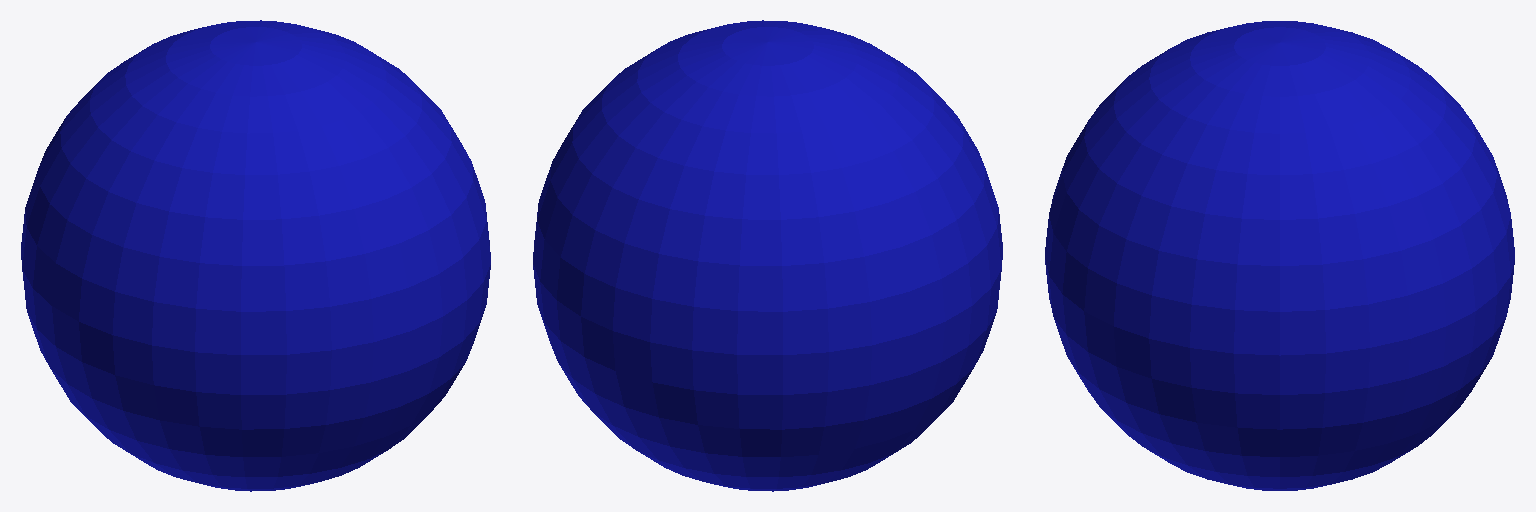
The robot description file, URDF, robot "GP7":
<?xml version="1.0"?>
<robot name="GP7">
    <!-- link list -->
    <link name="base_link">
        <visual>
            <geometry>
                <mesh filename="[local-path]/Documents/workspace/drake_cfs_lib/script/environment_description/gp7/meshes/visual/gp7_base_link.obj"/>
            </geometry>
            <material name="Endeffector_material">
                <color rgba="0.129411765 0.149019608 0.749019608 1.0" />
            </material>
        </visual>
        <collision>
            <geometry>
                <mesh filename="[local-path]/Documents/workspace/drake_cfs_lib/script/environment_description/gp7/meshes/collision/gp7_base_link.obj"/>
            </geometry>
        </collision>
    </link>
    <link name="link_1_s">
        <visual>
            <geometry>
                <mesh filename="[local-path]/Documents/workspace/drake_cfs_lib/script/environment_description/gp7/meshes/visual/gp7_link_1_s.obj"/>
            </geometry>
            <material name="Endeffector_material">
                <color rgba="0.129411765 0.149019608 0.749019608 1.0" />
            </material>
        </visual>
        <!-- <collision>
            <geometry>
                <mesh filename="[local-path]/Documents/workspace/drake_cfs_lib/script/environment_description/gp7/meshes/collision/gp7_link_1_s.obj"/>
            </geometry>
        </collision> -->
    </link>
    <link name="link_2_l">
        <visual>
            <geometry>
                <mesh filename="[local-path]/Documents/workspace/drake_cfs_lib/script/environment_description/gp7/meshes/visual/gp7_link_2_l.obj"/>
            </geometry>
            <material name="Endeffector_material">
                <color rgba="0.129411765 0.149019608 0.749019608 1.0" />
            </material>
        </visual>
        <!-- <collision>
            <geometry>
                <mesh filename="[local-path]/Documents/workspace/drake_cfs_lib/script/environment_description/gp7/meshes/collision/gp7_link_2_l.obj"/>
            </geometry>
        </collision> -->
    </link>
    <link name="link_3_u">
        <visual>
            <geometry>
                <mesh filename="[local-path]/Documents/workspace/drake_cfs_lib/script/environment_description/gp7/meshes/visual/gp7_link_3_u.obj"/>
            </geometry>
            <material name="Endeffector_material">
                <color rgba="0.129411765 0.149019608 0.749019608 1.0" />
            </material>
        </visual>
        <!-- <collision>
            <geometry>
                <mesh filename="[local-path]/Documents/workspace/drake_cfs_lib/script/environment_description/gp7/meshes/collision/gp7_link_3_u.obj"/>
            </geometry>
        </collision> -->
    </link>
    <link name="link_4_r">
        <visual>
            <geometry>
                <mesh filename="[local-path]/Documents/workspace/drake_cfs_lib/script/environment_description/gp7/meshes/visual/gp7_link_4_r.obj"/>
            </geometry>
            <material name="Endeffector_material">
                <color rgba="0.129411765 0.149019608 0.749019608 1.0" />
            </material>
        </visual>
        <!-- <collision>
            <geometry>
                <mesh filename="[local-path]/Documents/workspace/drake_cfs_lib/script/environment_description/gp7/meshes/collision/gp7_link_4_r.obj"/>
            </geometry>
        </collision> -->
    </link>
    <link name="link_5_b">
        <visual>
            <geometry>
                <mesh filename="[local-path]/Documents/workspace/drake_cfs_lib/script/environment_description/gp7/meshes/visual/gp7_link_5_b.obj"/>
            </geometry>
            <material name="Endeffector_material">
                <color rgba="0.129411765 0.149019608 0.749019608 1.0" />
            </material>
        </visual>
        <!-- <collision>
            <geometry>
                <mesh filename="[local-path]/Documents/workspace/drake_cfs_lib/script/environment_description/gp7/meshes/collision/gp7_link_5_b.obj"/>
            </geometry>
        </collision> -->
    </link>
    <link name="link_6_t">
        <visual>
            <geometry>
                <mesh filename="[local-path]/Documents/workspace/drake_cfs_lib/script/environment_description/gp7/meshes/visual/gp7_link_6_t.obj"/>
            </geometry>
            <material name="Endeffector_material">
                <color rgba="0.129411765 0.149019608 0.749019608 1.0" />
            </material>
        </visual>
        <collision>
            <geometry>
                <mesh filename="[local-path]/Documents/workspace/drake_cfs_lib/script/environment_description/gp7/meshes/collision/gp7_link_6_t.obj"/>
            </geometry>
        </collision>
    </link>
    <link name="tool0">
        <visual name="Endeffector">
            <origin rpy="0.000000 0.000000 0.000000" xyz="0.000000 0.000000 0.000000" />
            <geometry>
                <sphere radius="0.02"/>
            </geometry>
            <material name="Endeffector_material">
                <color rgba="0.129411765 0.149019608 0.749019608 1.0" />
            </material>
        </visual>
    </link>

    <!-- joint list -->
    <joint name="joint_1_s" type="revolute">
        <parent link="base_link"/>
        <child link="link_1_s"/>
        <origin xyz="0 0 0.330" rpy="0 0 0" />
        <axis xyz="0 0 1" />
        <limit lower="-2.9670" upper="2.9670" effort="212.66" velocity="6.5448"/>
    </joint>
    <joint name="joint_2_l" type="revolute">
        <parent link="link_1_s"/>
        <child link="link_2_l"/>
        <origin xyz="0.040 0 0" rpy="0 0 0" />
        <axis xyz="0 1 0" />
        <limit lower="-1.1344" upper="2.5307" effort="205.80" velocity="5.4977"/>
    </joint>
    <joint name="joint_3_u" type="revolute">
        <parent link="link_2_l"/>
        <child link="link_3_u"/>
        <origin xyz="0 0 0.445" rpy="0 0 0" />
        <axis xyz="0 -1 0" />
        <limit lower="-1.2217" upper="3.3161" effort="106.82" velocity="7.1558"/>
    </joint>
    <joint name="joint_4_r" type="revolute">
        <parent link="link_3_u"/>
        <child link="link_4_r"/>
        <origin xyz="0.440 0 0.040" rpy="0 0 0" />
        <axis xyz="-1 0 0" />
        <limit lower="-3.3161" upper="3.3161" effort="55.86" velocity="9.5993"/>
    </joint>
    <joint name="joint_5_b" type="revolute">
        <parent link="link_4_r"/>
        <child link="link_5_b"/>
        <origin xyz="0 0 0" rpy="0 0 0" />
        <axis xyz="0 -1 0" />
        <limit lower="-2.3561" upper="2.3561" effort="32.68" velocity="9.5993"/>
    </joint>
    <joint name="joint_6_t" type="revolute">
        <parent link="link_5_b"/>
        <child link="link_6_t"/>
        <origin xyz="0 0 0" rpy="0 0 0" />
        <axis xyz="-1 0 0" />
        <limit lower="-6.2944" upper="6.2944" effort="22.54" velocity="17.4845"/>
    </joint>
    <joint name="joint_6_t-endeffector" type="fixed">
        <origin rpy="0.000000 0.000000 0.000000" xyz="0.1 0.0 0.0" />
        <parent link="link_6_t"/>
        <child link="tool0"/>
    </joint>
    <!-- end of joint list -->

    <!-- ROS base_link to Robot Manufacturer World Coordinates transform -->
    <!-- <link name="base" />
    <joint name="base_link-base" type="fixed">
        <origin xyz="0 0 0.330" rpy="0 0 0"/>
        <parent link="base_link"/>
        <child link="base"/>
    </joint> -->

    <!-- <link name="world" />
    <joint name="world-base_link" type="floating">
        <origin xyz="0 0 0" rpy="0 0 0"/>
        <parent link="world"/>
        <child link="base_link"/>
    </joint> -->
</robot>

--- Render facts (derived) ---
3 views of the same robot in one strip: view 1: azimuth 30°, elevation 25°; view 2: azimuth 150°, elevation 25°; view 3: azimuth 270°, elevation 25° (orthographic).
Model GP7 with 8 links and 7 joints (6 revolute, 1 fixed), rooted at base_link, posed every joint at zero.
Visible links, largest first — view 1: tool0; view 2: tool0; view 3: tool0.
Link boxes in pixels (x1,y1,x2,y2): tool0: (21, 20, 490, 491); tool0: (533, 20, 1002, 491); tool0: (1045, 21, 1514, 490).
Size in the robot's own frame: 0.04 by 0.04 by 0.04 metres.
Geometry: only primitive shapes (box / cylinder / sphere) drawn; not drawn: 7 mesh visuals (reference in a form the renderer does not follow).